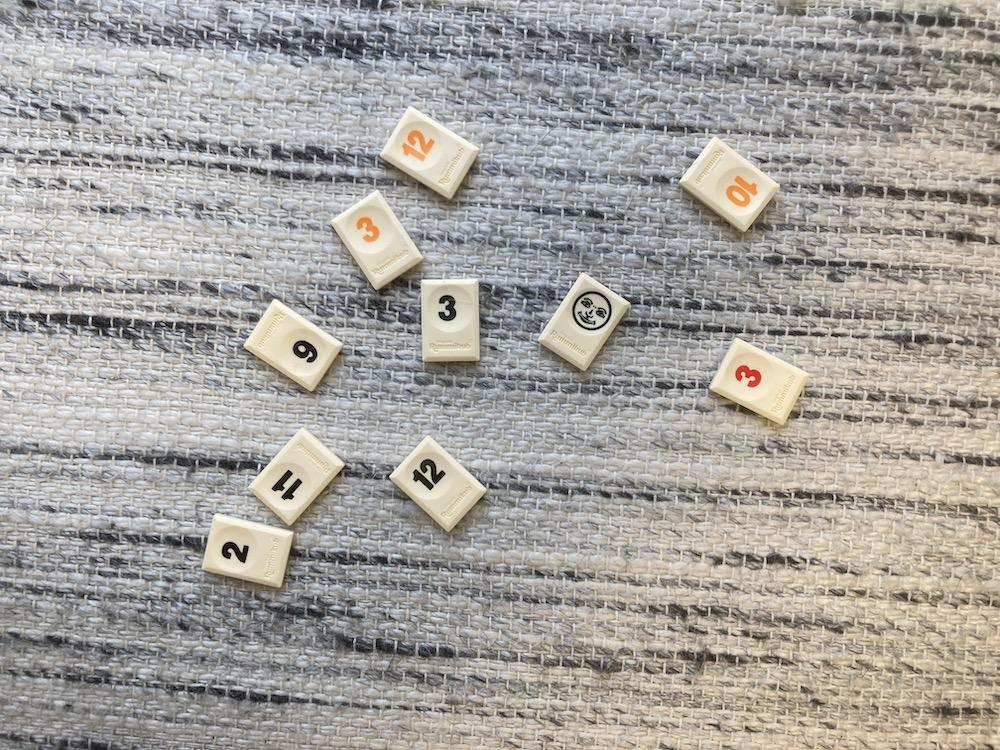black_11: (250, 428, 344, 525)
black_12: (391, 436, 486, 531)
black_2: (200, 514, 293, 588)
black_3: (422, 279, 479, 361)
black_6: (244, 299, 342, 391)
joker: (540, 273, 629, 371)
orange_10: (680, 139, 779, 230)
orange_12: (381, 107, 479, 199)
orange_3: (332, 191, 422, 289)
red_3: (709, 338, 809, 424)
